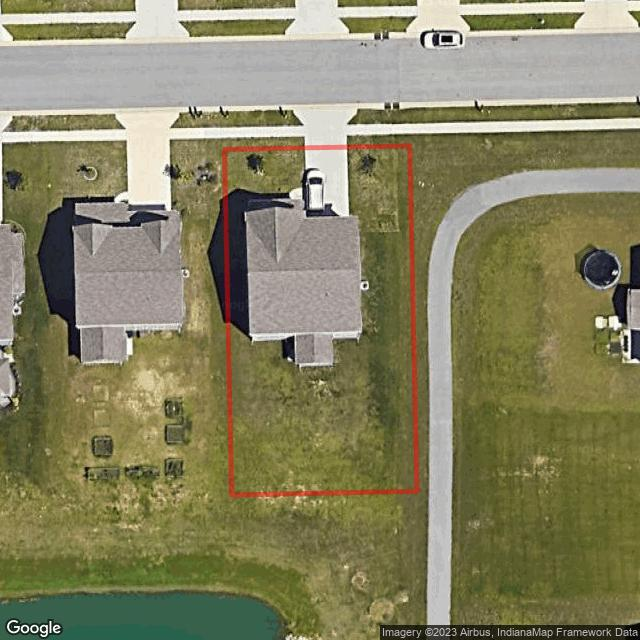Driveway: (289, 146, 349, 216)
Extra Driveway: (294, 108, 356, 146)
Extra Lawn: (225, 110, 301, 126), (349, 109, 411, 124), (350, 134, 411, 145), (223, 138, 304, 146)
Extra Sidewalk: (224, 125, 303, 140), (348, 123, 412, 136)
House: (228, 169, 362, 366)
